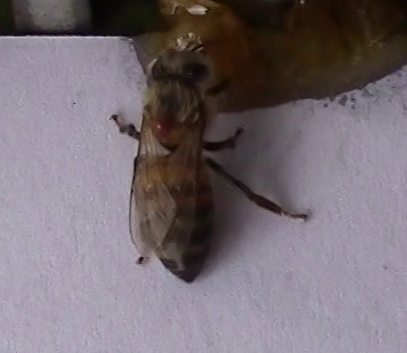Varroa destructor: (149, 107, 177, 143)
